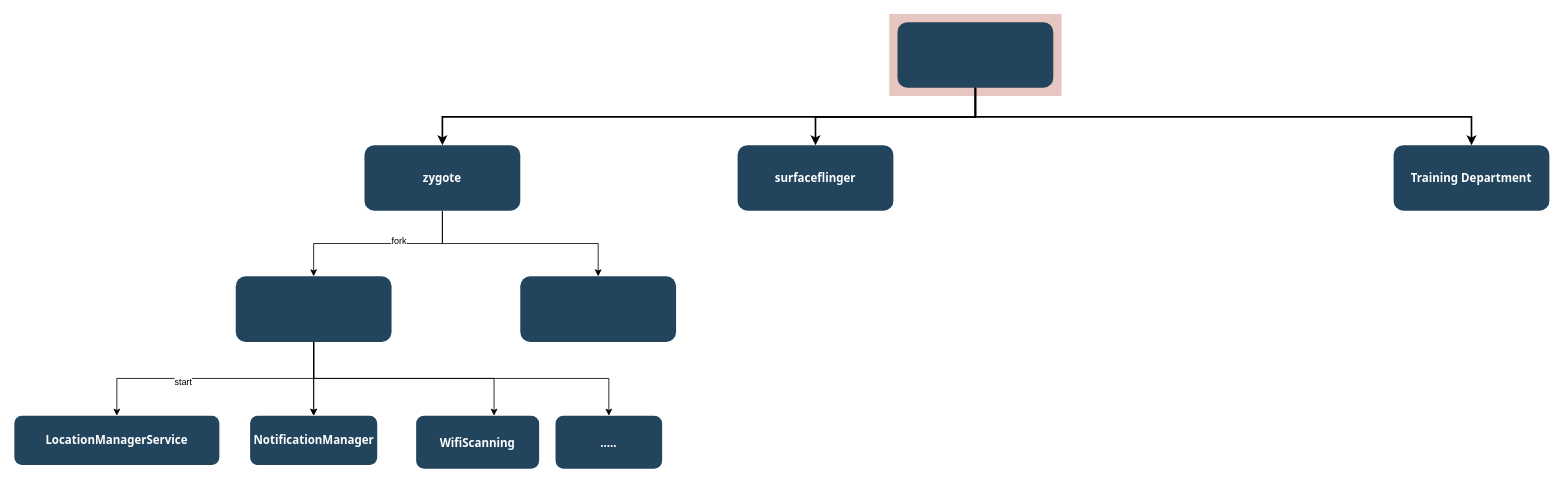
Some shapes in this 1563 by 483 pixel diagram are drawn without their labels. The shapes that lost their labels are listed below. From the top down, each one's centre as x and y in pixels, then its label:
the point at 975,54: init进程
the point at 313,309: SystemServer
the point at 598,309: app
